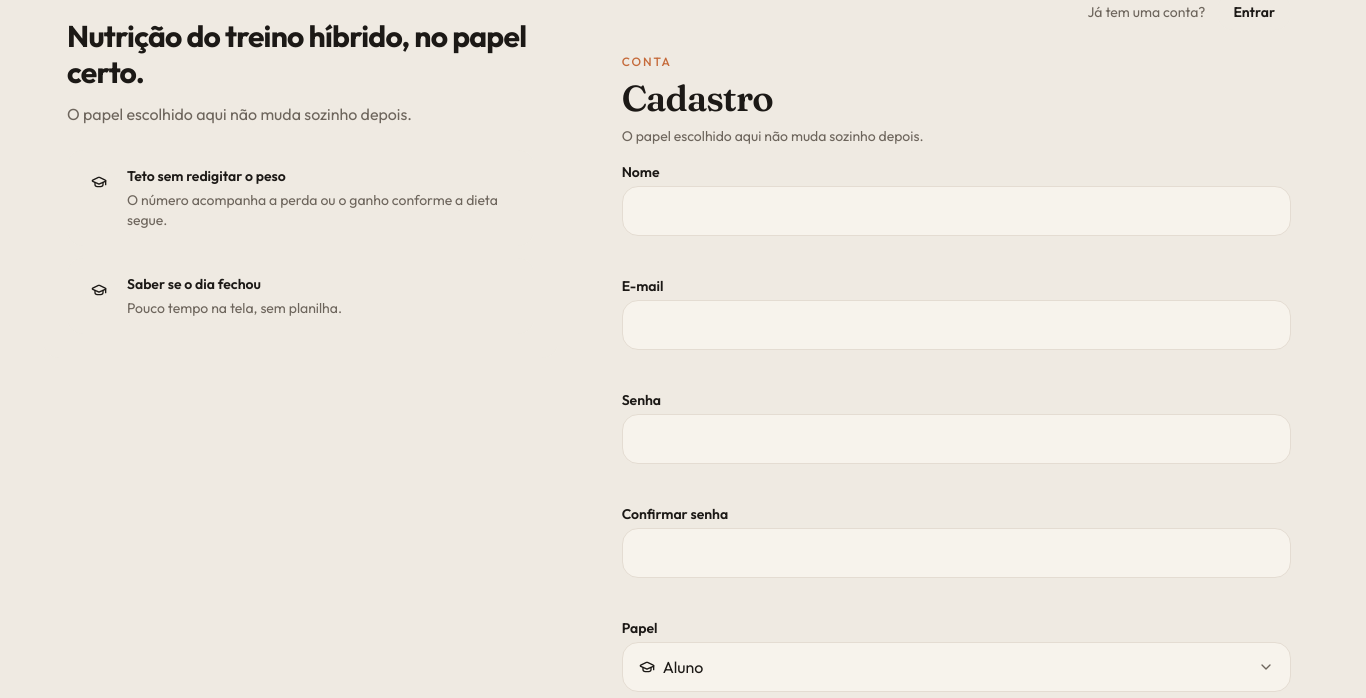
Test case: falha de conexão no cadastro não mostra que o e-mail já existe
The width and height of the screenshot is (1366, 698).
Type "Ana Aluna" into the field labelled "Nome" at (956, 211), box [622,186,1291,236]
Type "ana@example.com" into the field labelled "E-mail" at (956, 325), box [622,300,1291,350]
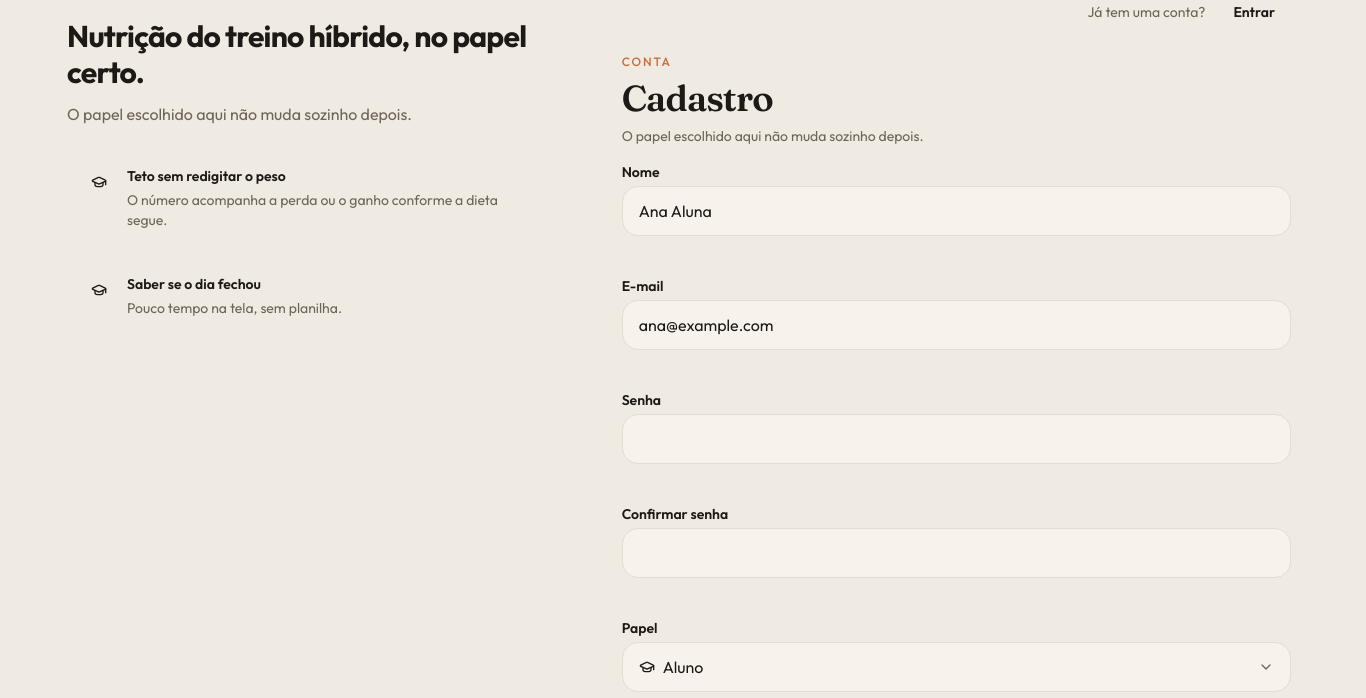
Type "Senha123" into the password field labelled "Senha" at (956, 439), box [622,414,1291,464]
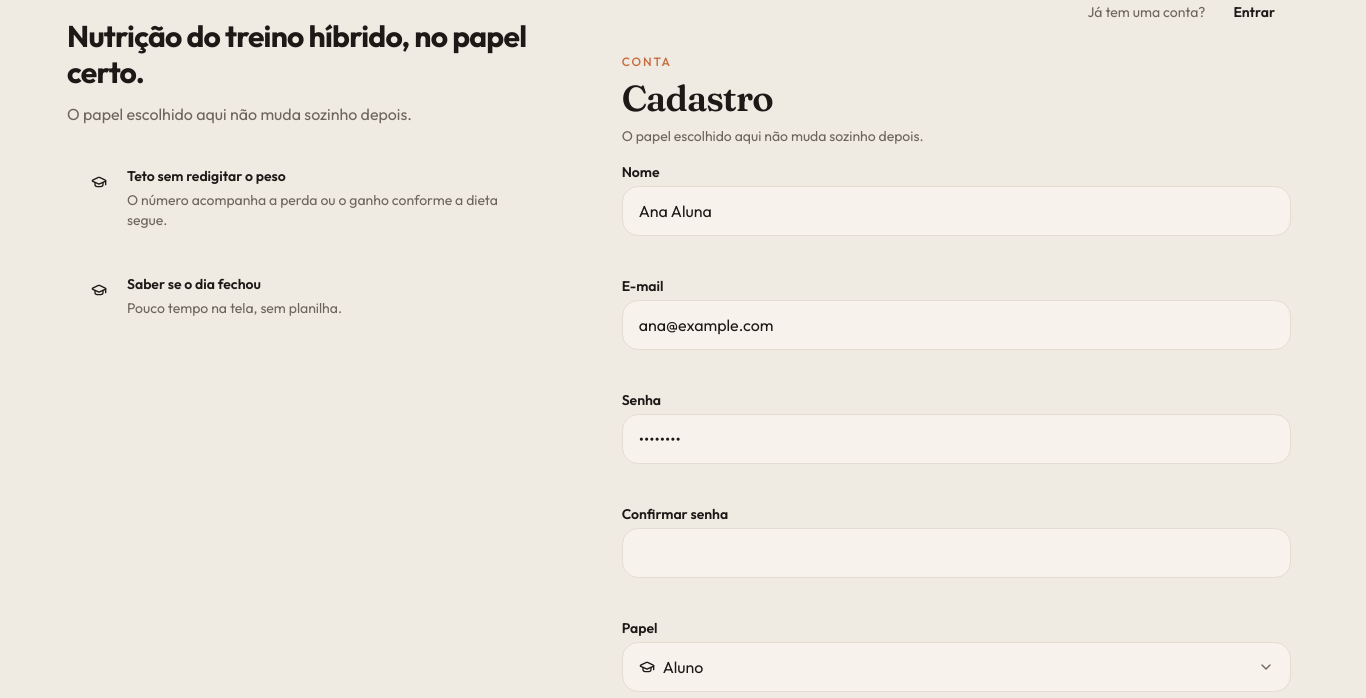
Type "Senha123" into the password field labelled "Confirmar senha" at (956, 553), box [622,528,1291,578]
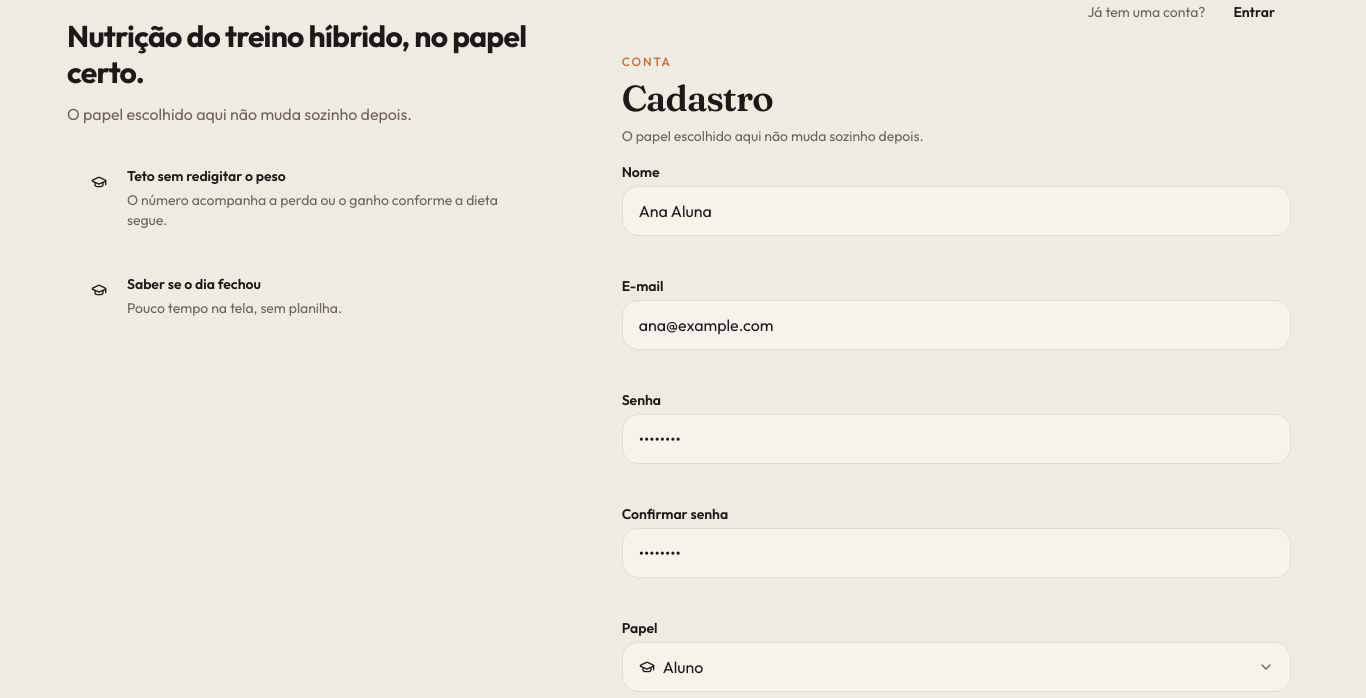
Click the dropdown named "Papel" at (683, 667), box [622,642,1291,692]
(page scrolled)
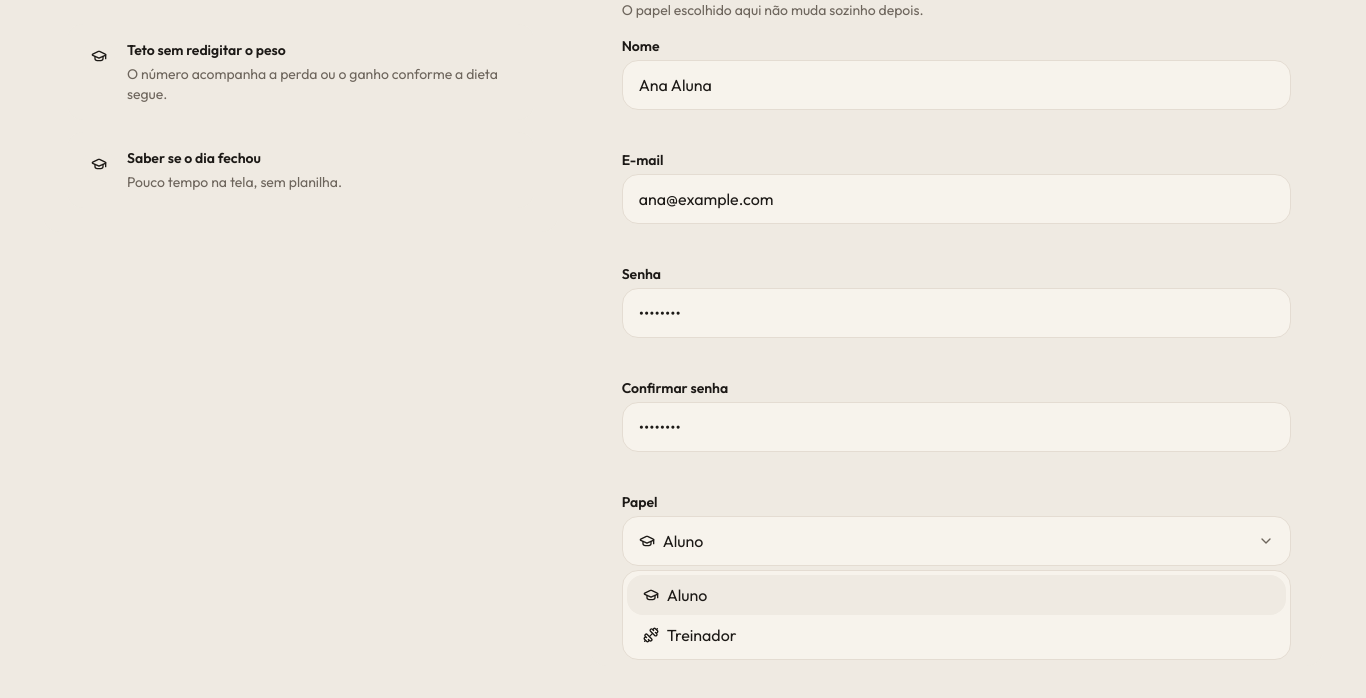
Click the option "Aluno" at (687, 595), box [627,575,1286,615]
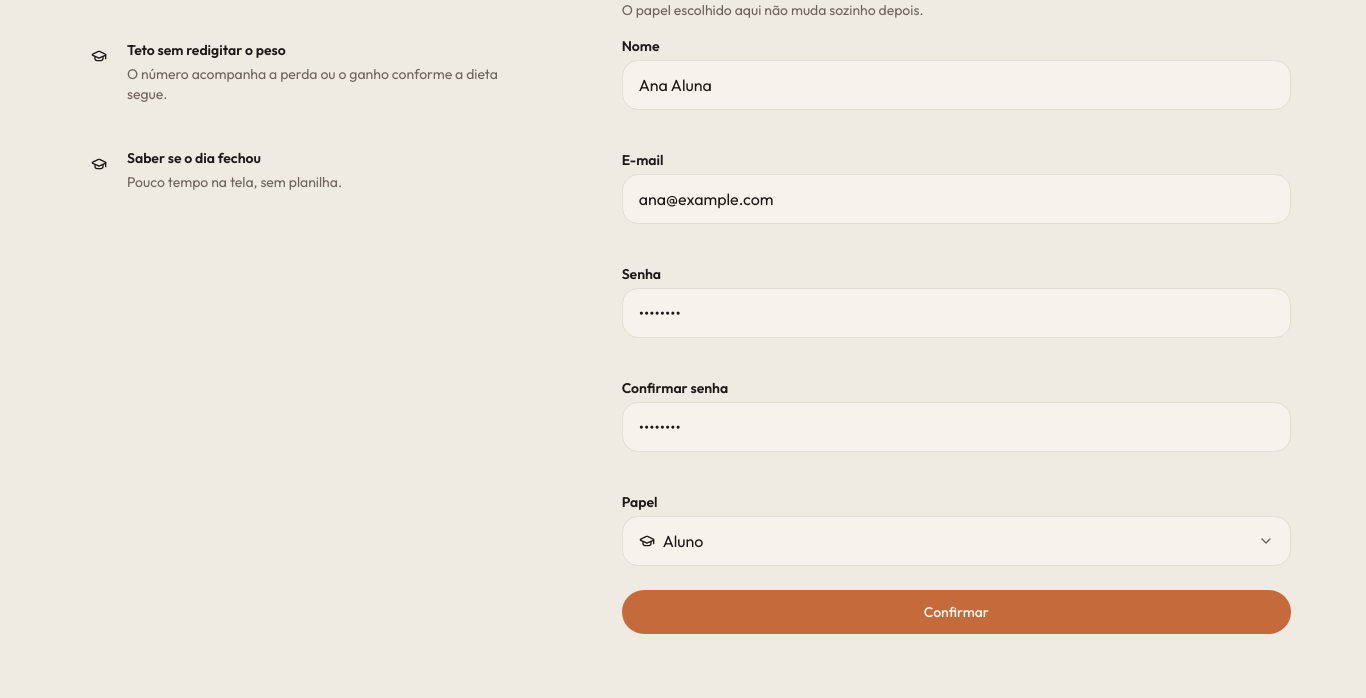
Click the button "Confirmar" at (956, 612), box [622,590,1291,634]
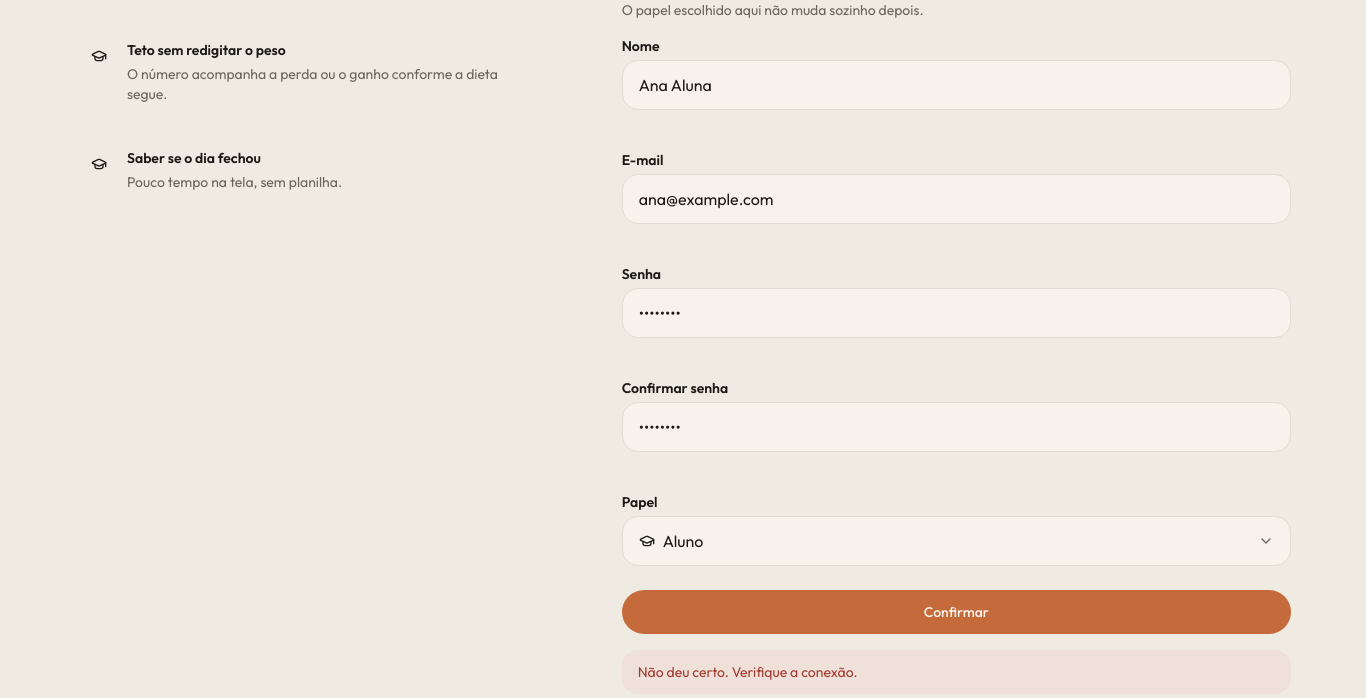
Expected: the text "Não deu certo. Verifique a conexão." is shown, [622,650,1291,694]
